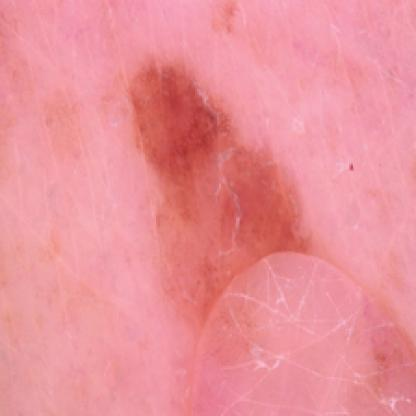benign: (117, 58, 377, 388)
